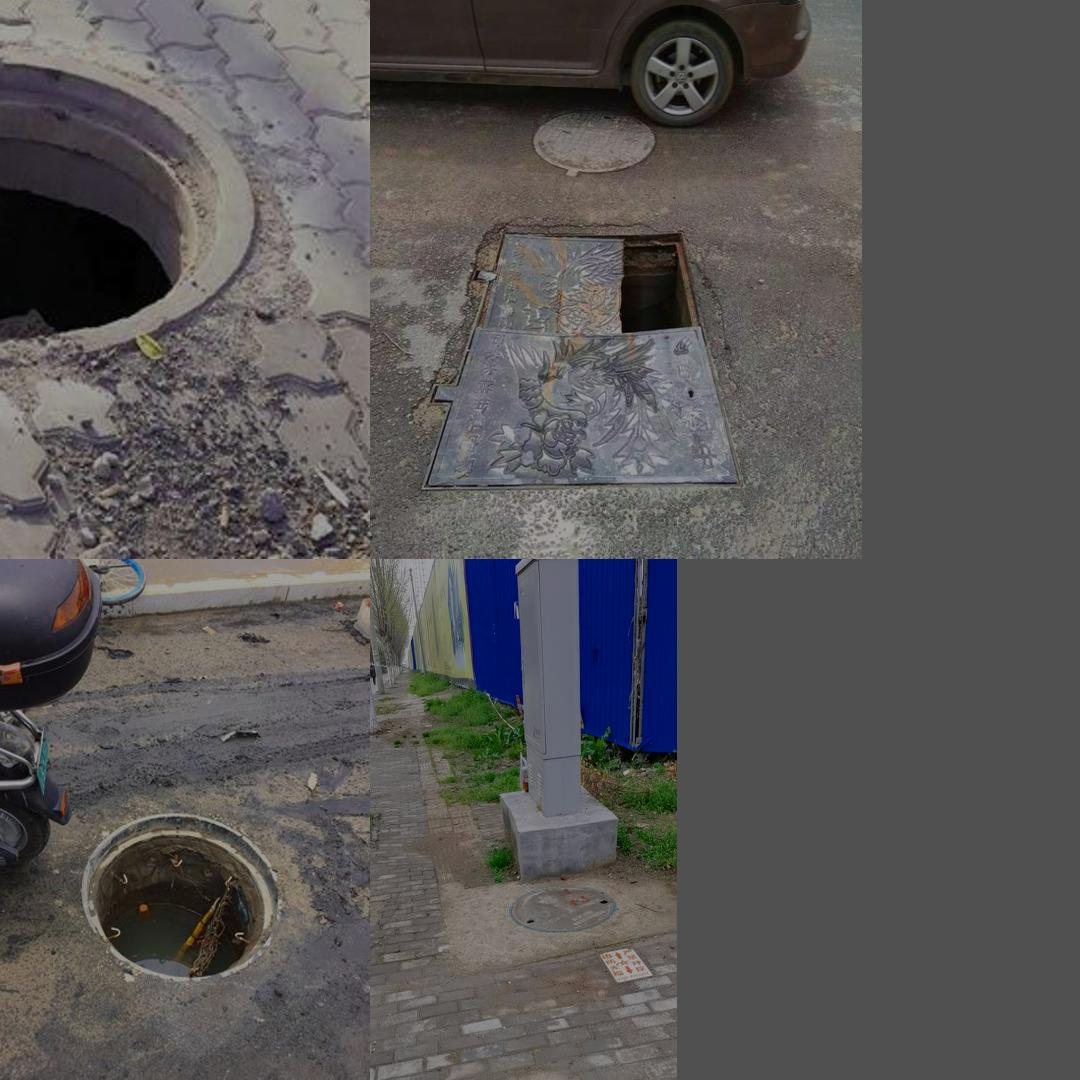lose: (405, 209, 749, 505), (0, 36, 271, 375), (78, 807, 296, 982)
